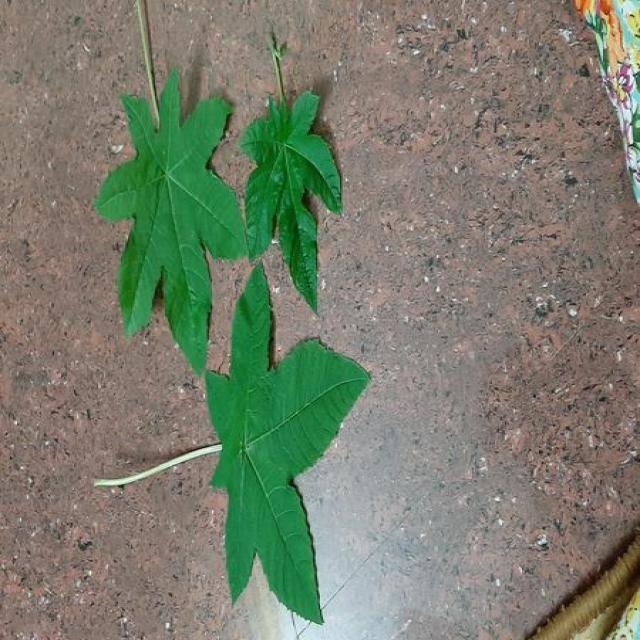castor: (95, 70, 368, 622)
